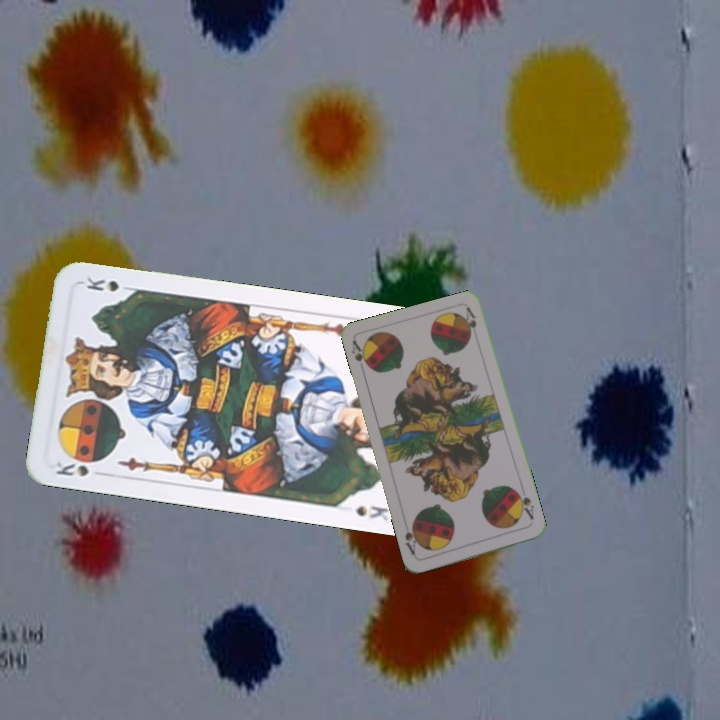SA: (512, 486, 537, 522), (348, 337, 373, 372)
SK: (52, 454, 92, 479)
